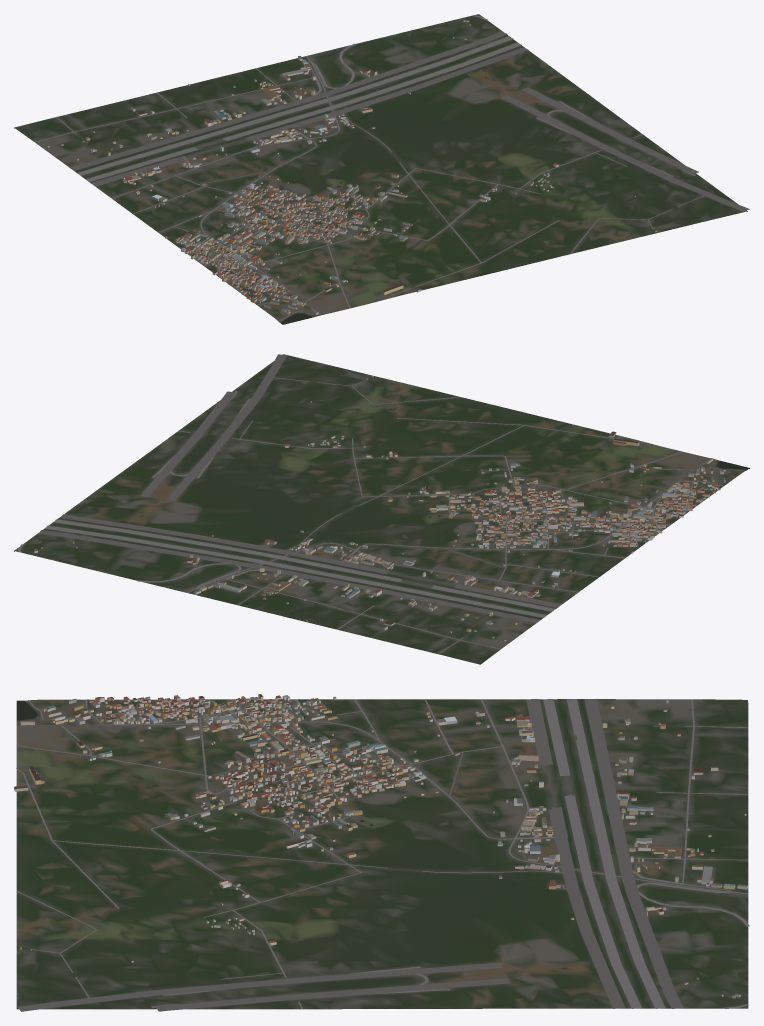
3 renders of one model, top to bottom at view 1: azimuth 30°, elevation 25°; view 2: azimuth 150°, elevation 25°; view 3: azimuth 270°, elevation 25°, orthographic. The views are drawn at different scales.
Visible parts, largest first — view 1: ground, roads, buildings; view 2: ground, roads, buildings; view 3: ground, roads, buildings.
Boxes of the visible parts, x1,y1,x2,y2 form: ground: (14, 14, 747, 324); roads: (35, 15, 749, 321); buildings: (47, 18, 657, 314); ground: (14, 354, 749, 664); roads: (18, 354, 745, 654); buildings: (34, 375, 725, 641); ground: (16, 699, 748, 1009); roads: (16, 698, 749, 1011); buildings: (14, 694, 747, 998).
Bounding box in the file's own units: 1419 × 17.35 × 1410.
